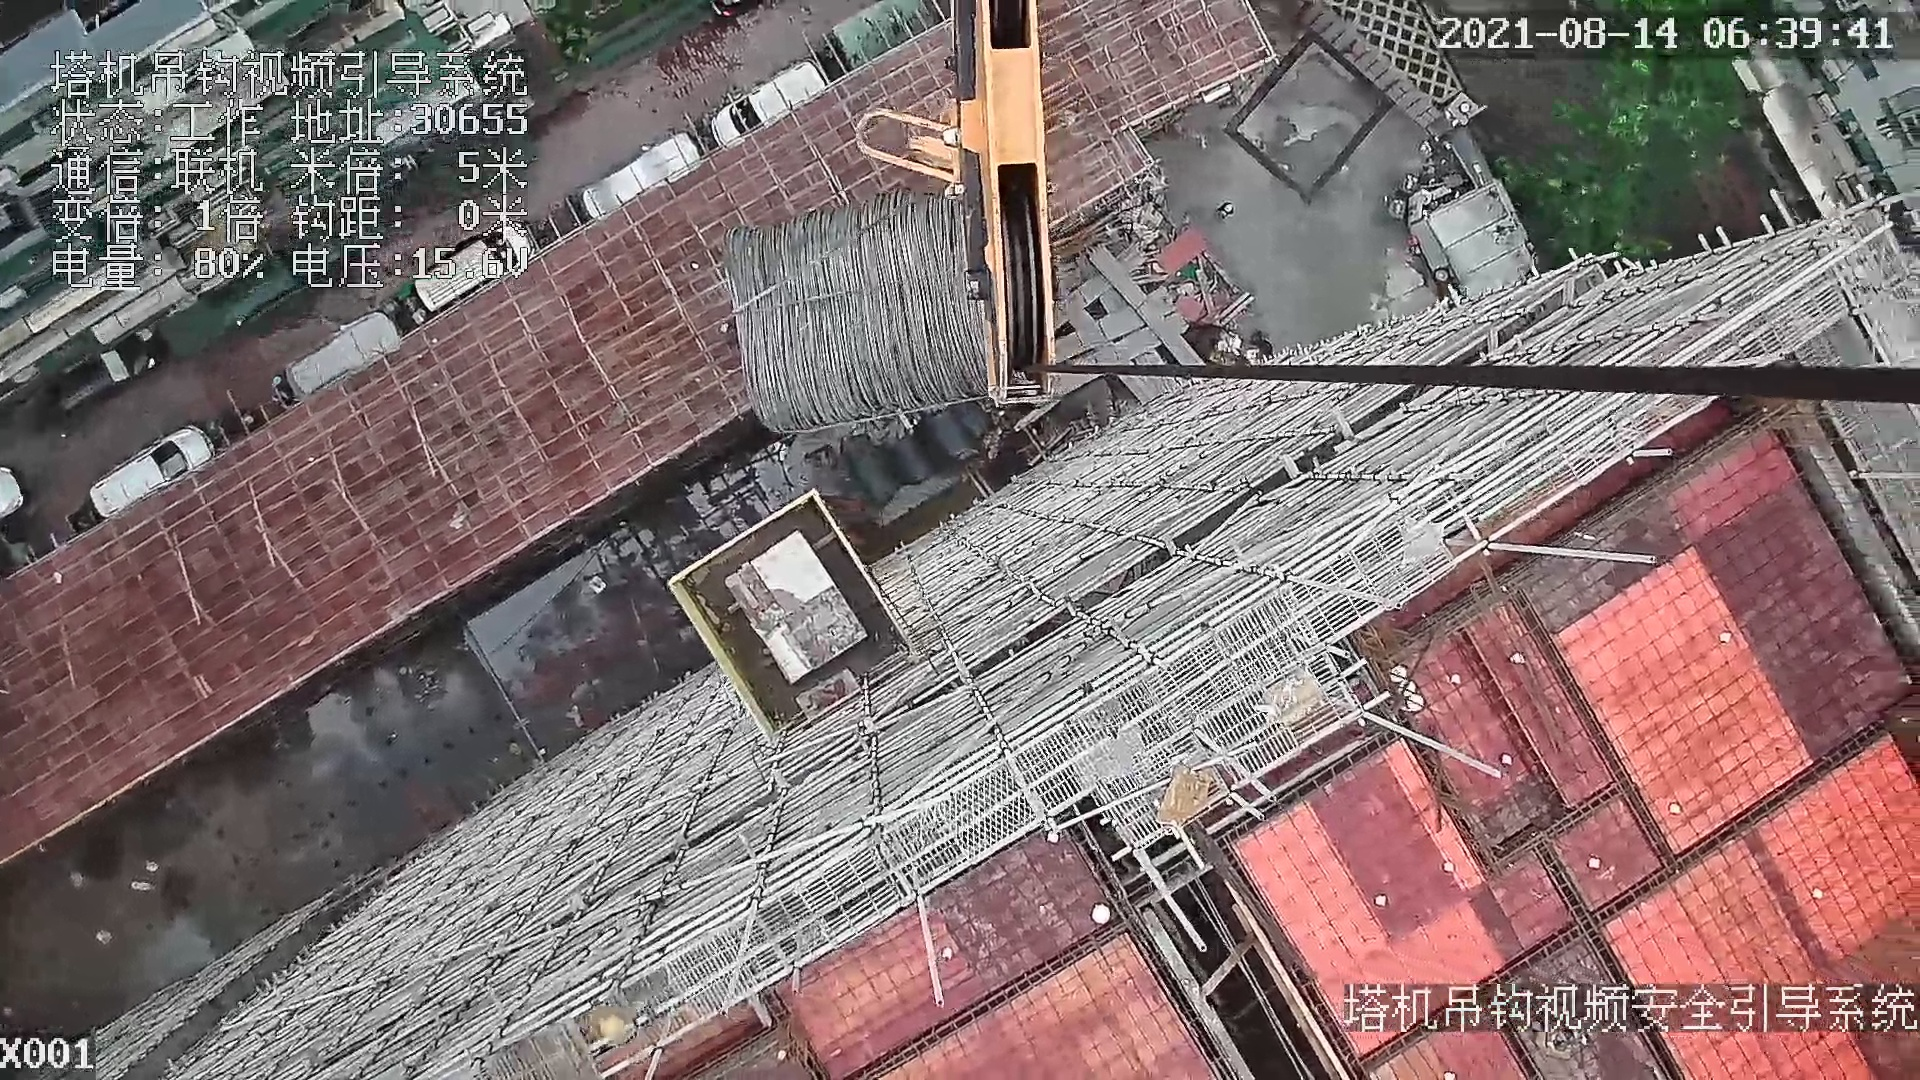hook: (837, 1, 1069, 407)
